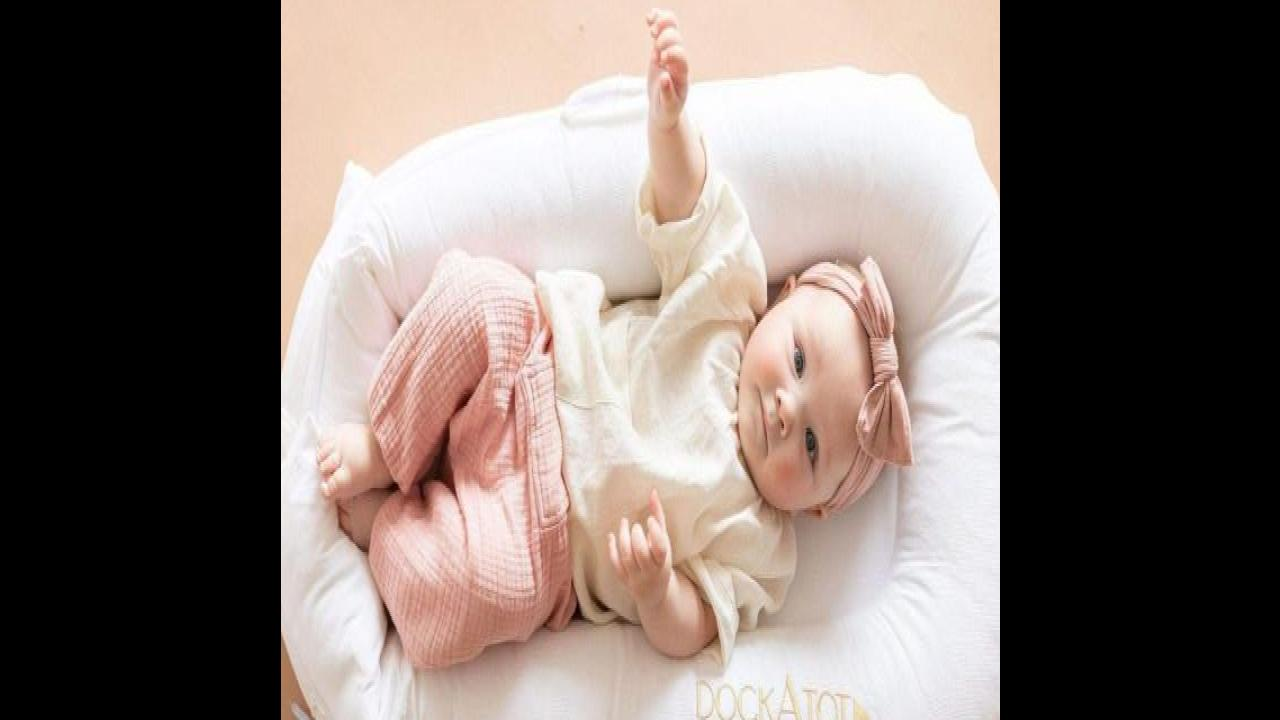hand: (606, 494, 667, 590), (644, 12, 688, 126)
